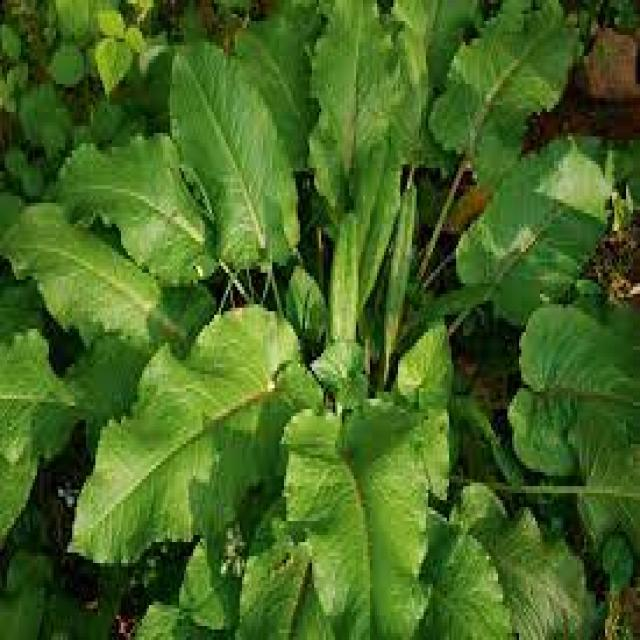organic waste: (19, 0, 635, 640)
